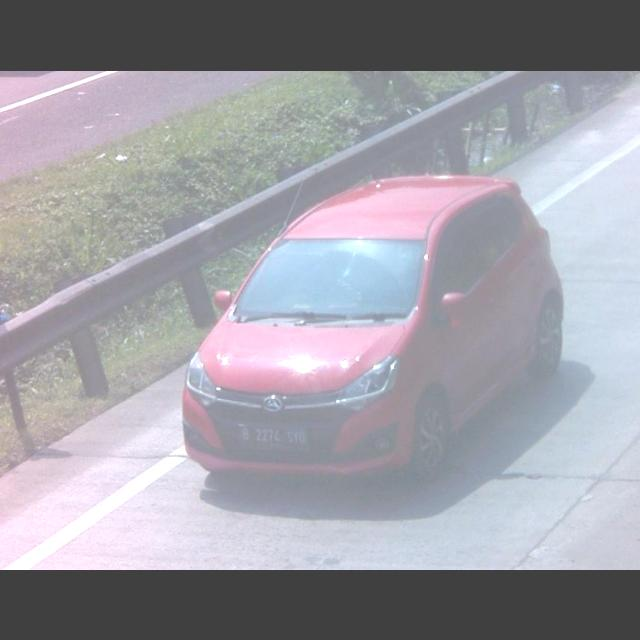plate: (238, 422, 310, 449)
